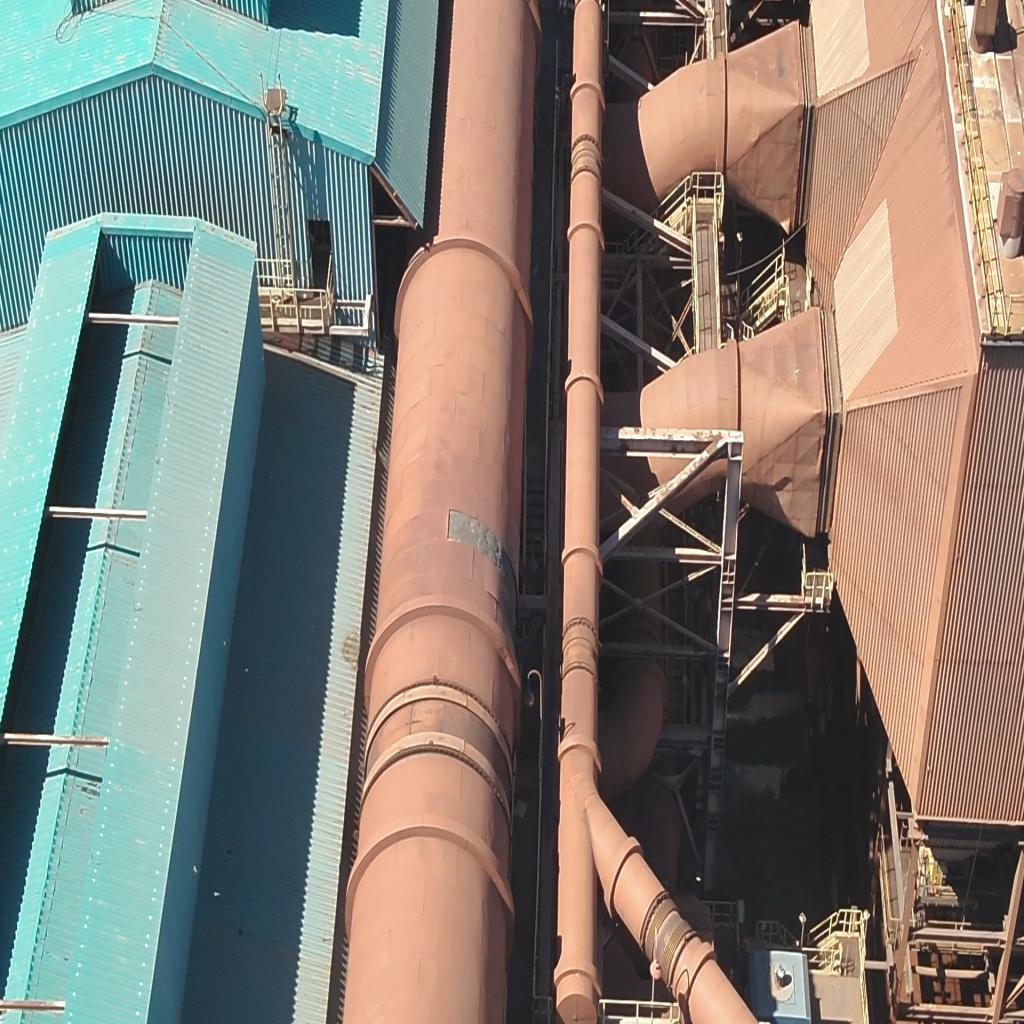Failures: (444, 502, 519, 626)
